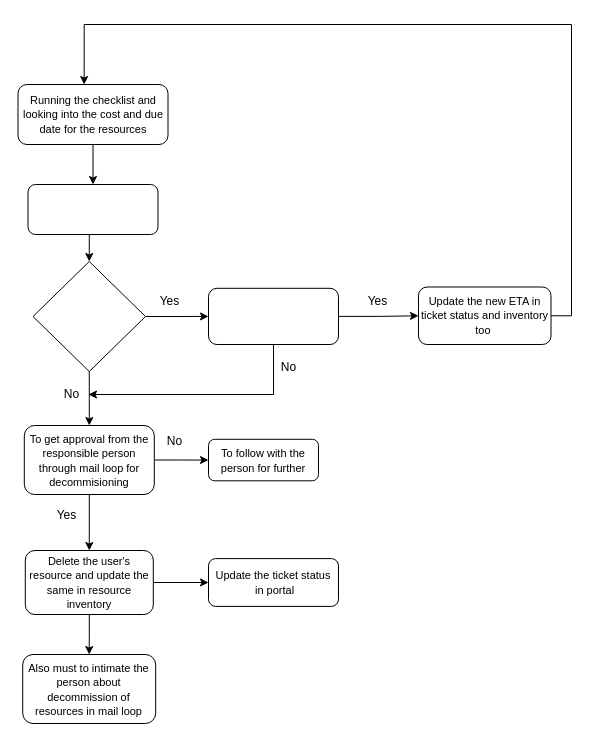
Some shapes in this 597 by 741 pixel diagram are drawn without their labels. The shapes that lost their labels are listed below. From the top down, each one's centre as x and y in pixels, then its label:
the point at 92,209: Intimating the user about due date prior of 2 days
the point at 89,316: If they need resources and want to extend due date
the point at 273,315: Get approval from lead or poc for ETA with cost estimation
